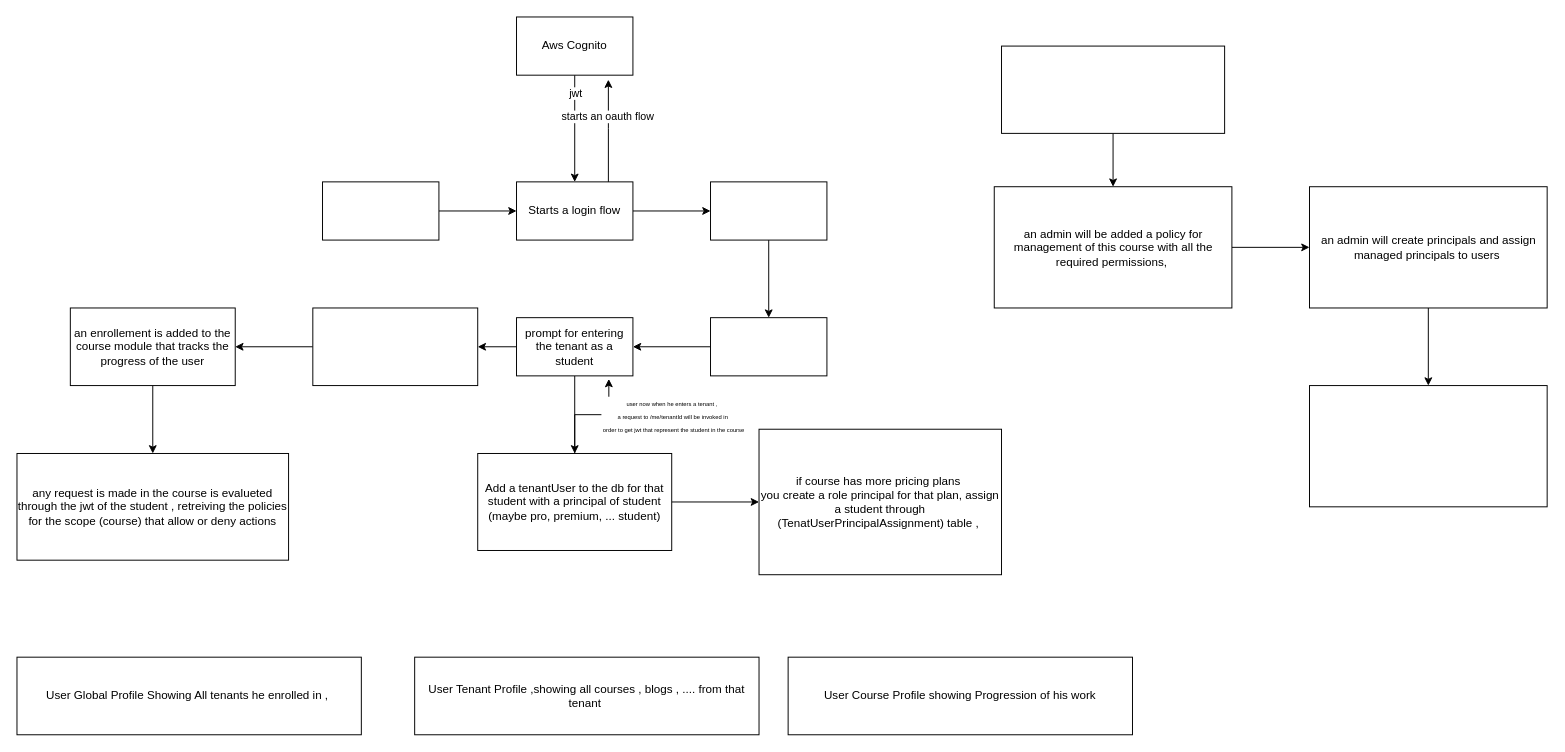
Some shapes in this 1565 by 752 pixel diagram are drawn without their labels. The shapes that lost their labels are listed below. From the top down, each one's centre as x and y in pixels, then its label:
At (x=1113, y=89): "Admin Creates a course using a permission of (course:create inside his tenant)".
At (x=380, y=210): "User wants to use our website".
At (x=768, y=210): "Visits a Tenant course".
At (x=395, y=346): "start enrollement check (payment if needed and more info if needed)".
At (x=768, y=346): "Wants to enroll in a course".
At (x=1428, y=446): "principals and TenantUsers can login and be able to use course management".
